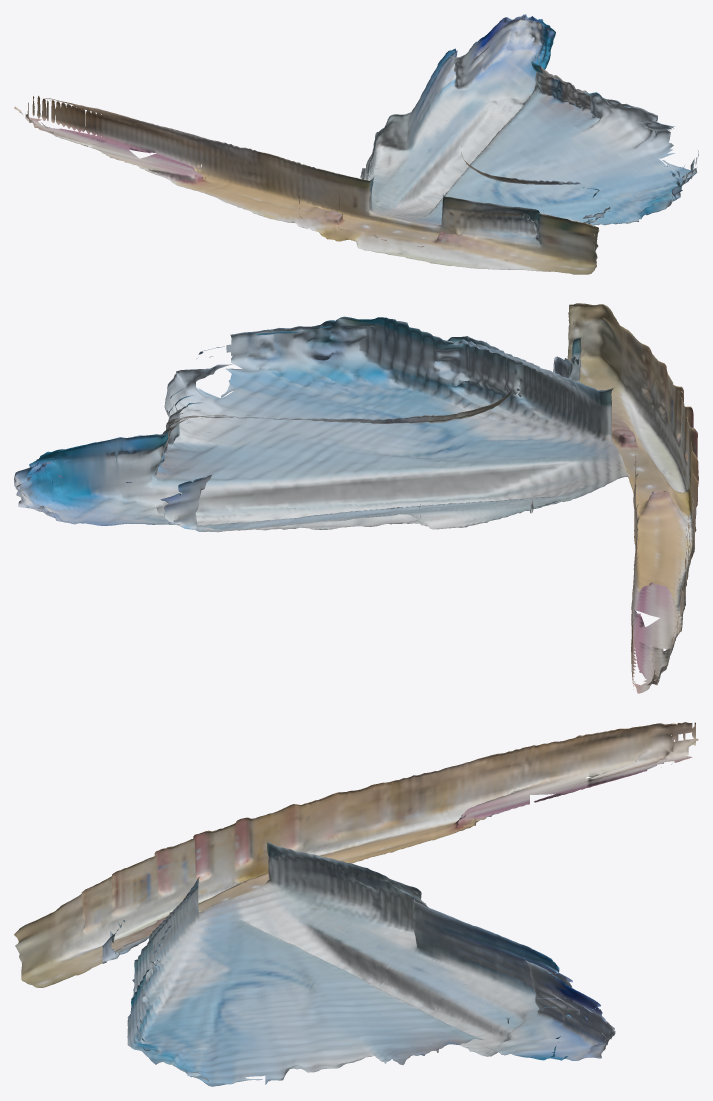
The model's file is world_collider.glb.
The picture shows the model from 3 angles, top to bottom: view 1: azimuth 30°, elevation 25°; view 2: azimuth 150°, elevation 25°; view 3: azimuth 270°, elevation 25°; orthographic projection. The views are drawn at different scales.
Parts seen in each view (by area): view 1: world; view 2: world; view 3: world.
Boxes of the visible parts, bbox=[...] form: world: bbox=[14, 14, 698, 274]; world: bbox=[14, 303, 698, 693]; world: bbox=[14, 722, 698, 1086].
Bounding box in the file's own units: 23.71 × 3.47 × 22.88.
